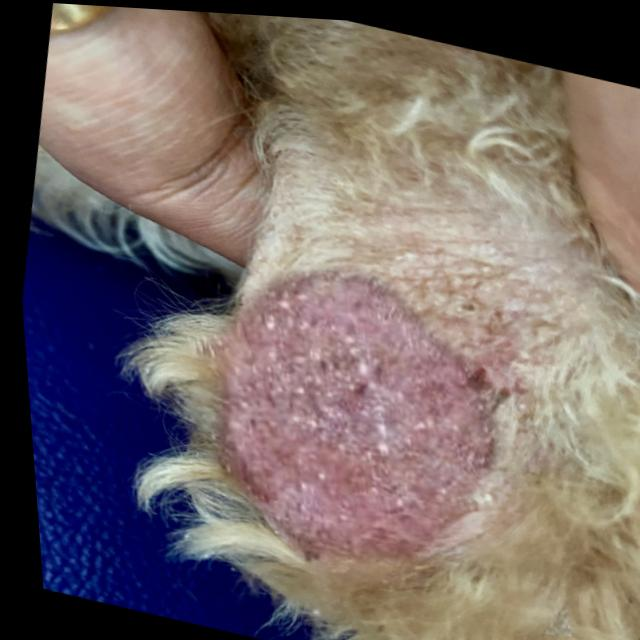ringworm: (189, 229, 546, 602)
